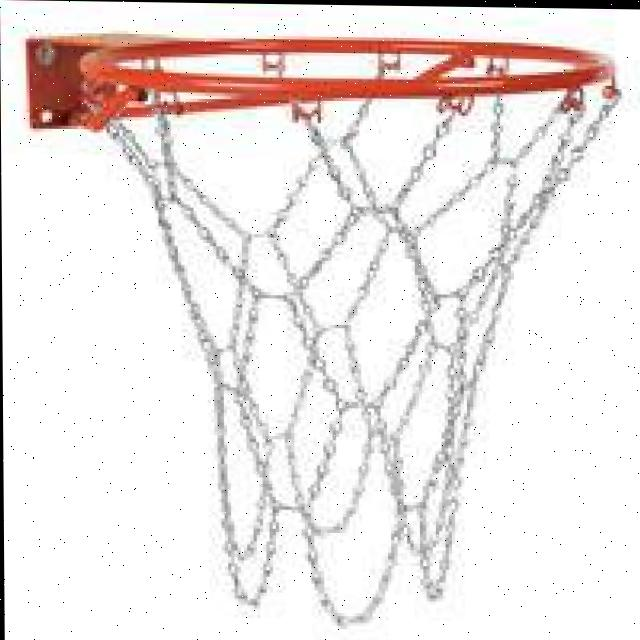hoop: (80, 33, 627, 629)
